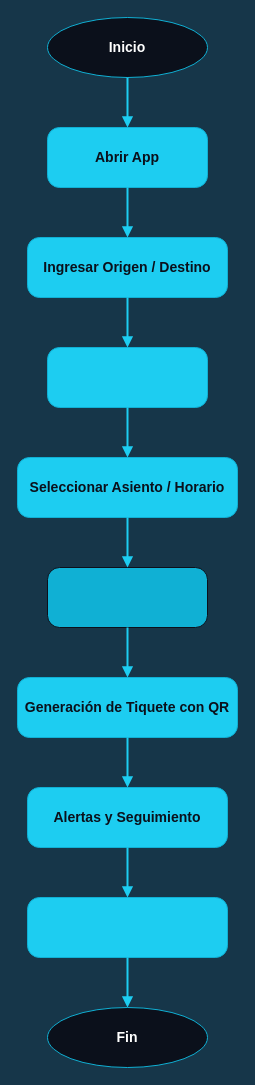
The diagram is 255 pixels wide and 1085 high, and some of its shapes have lost their labels. Here are the shapes that lost their labels. From the top down, the centre of each, then its label:
(127,377): Consultar Rutas
(127,597): Pasarela de Pago
(127,927): Abordaje / Fin de Viaje
